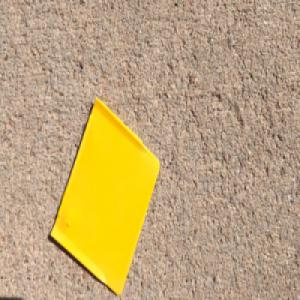PlasticPart: (48, 93, 161, 297)
